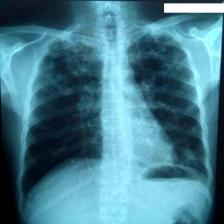tuberculosis: (13, 22, 214, 207)
